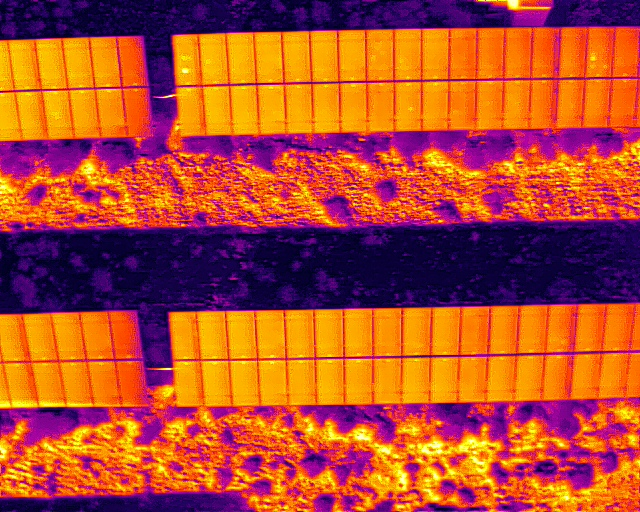multi_spot: (171, 32, 205, 90), (583, 27, 614, 79)
photovoltaic_panels: (166, 23, 637, 138), (163, 300, 636, 410), (1, 31, 152, 142), (1, 307, 151, 410)
single_spot: (41, 88, 75, 141), (197, 33, 230, 86), (392, 79, 424, 133)
